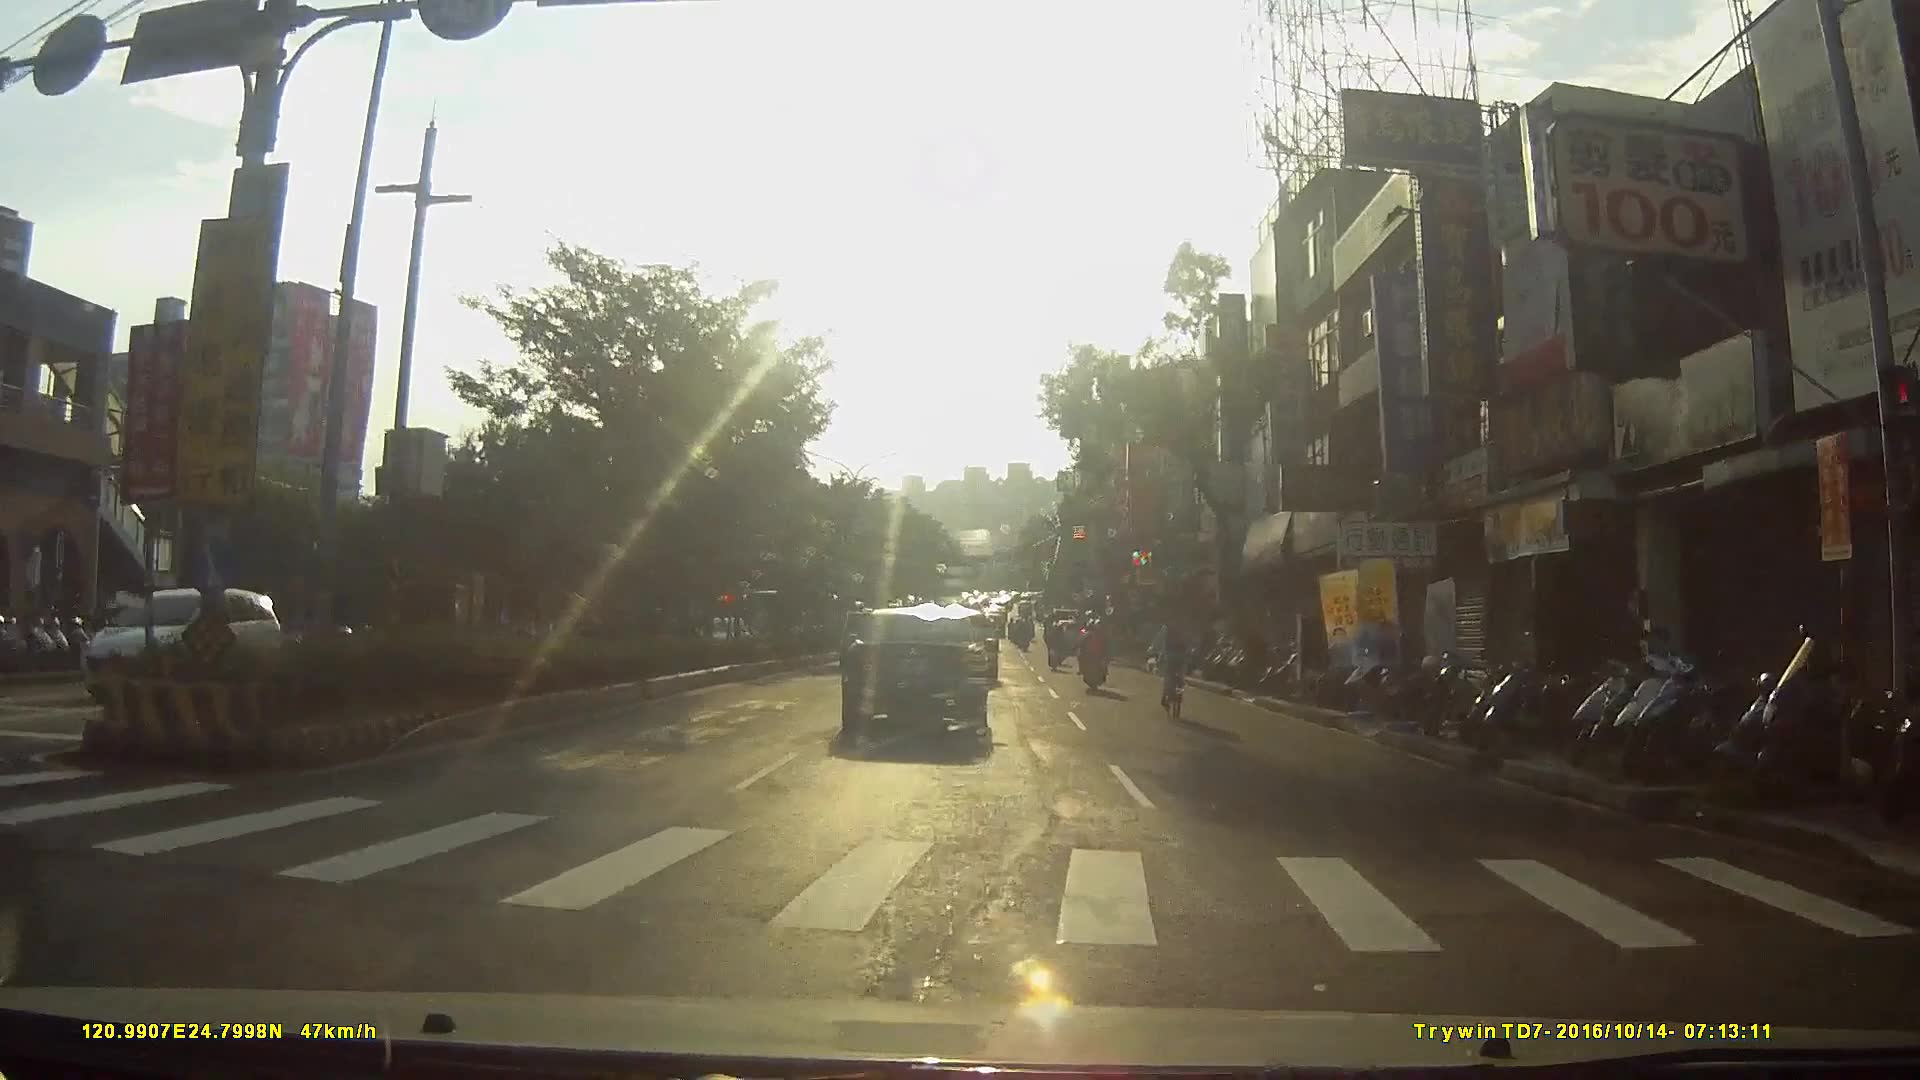rider: (1148, 603, 1200, 719), (1079, 616, 1112, 692), (1045, 621, 1068, 674)
vehicle: (83, 583, 294, 704), (841, 606, 1001, 750)
